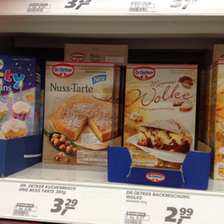cake: (43, 59, 117, 171), (125, 63, 199, 169)
